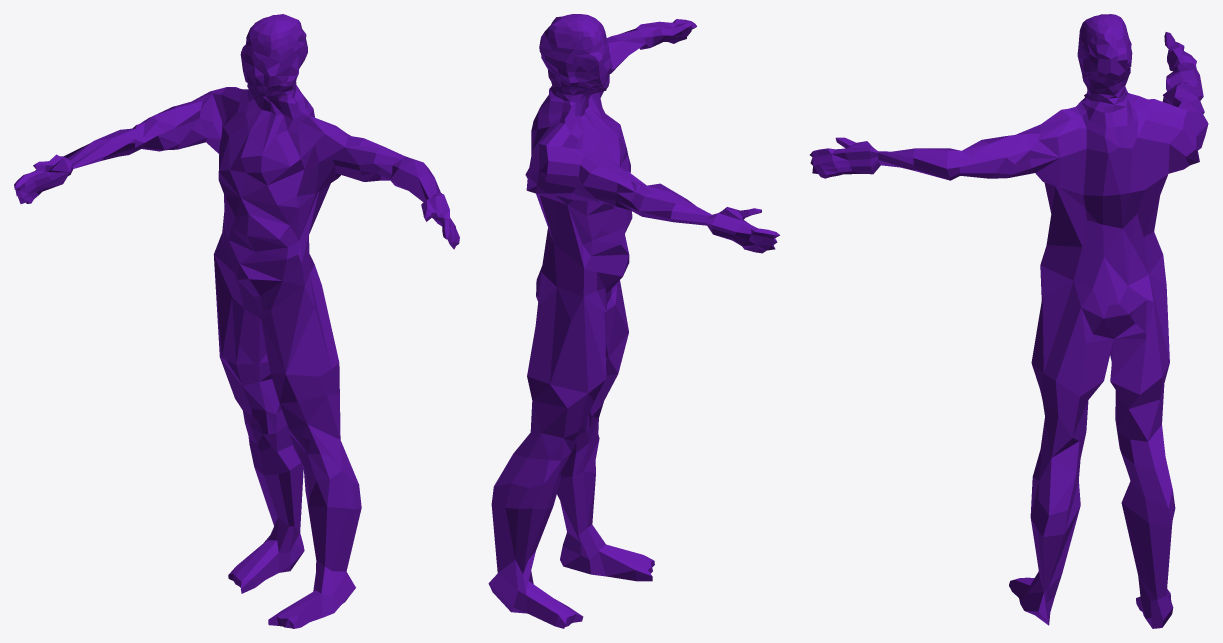
File: TheMan_chunks.fbx
The picture shows the model from 3 angles, left to right: view 1: azimuth 30°, elevation 25°; view 2: azimuth 150°, elevation 25°; view 3: azimuth 270°, elevation 25°; orthographic projection. The views are drawn at different scales.
Visible parts, largest first — view 1: TheMan_1, TheMan_7, TheMan_3, TheMan_8, TheMan_5, TheMan_0, TheMan_2, TheMan_4, TheMan_9, TheMan_6; view 2: TheMan_3, TheMan_0, TheMan_5, TheMan_2, TheMan_8, TheMan_1, TheMan_4, TheMan_7, TheMan_9, TheMan_6; view 3: TheMan_0, TheMan_7, TheMan_3, TheMan_5, TheMan_9, TheMan_8, TheMan_1, TheMan_2, TheMan_6.
Part boxes in pixels (x1,y1,x2,y2): TheMan_1: [128, 16, 433, 229]; TheMan_7: [266, 206, 340, 495]; TheMan_3: [218, 327, 304, 593]; TheMan_8: [296, 418, 361, 628]; TheMan_5: [213, 195, 276, 395]; TheMan_0: [139, 14, 338, 177]; TheMan_2: [14, 124, 249, 239]; TheMan_4: [223, 326, 301, 628]; TheMan_9: [310, 149, 459, 236]; TheMan_6: [265, 187, 459, 249]; TheMan_3: [488, 363, 606, 628]; TheMan_0: [525, 15, 635, 252]; TheMan_5: [527, 211, 632, 407]; TheMan_2: [590, 181, 779, 253]; TheMan_8: [557, 418, 648, 576]; TheMan_1: [569, 14, 692, 186]; TheMan_4: [583, 298, 654, 581]; TheMan_7: [536, 247, 628, 480]; TheMan_9: [607, 21, 663, 73]; TheMan_6: [653, 19, 696, 45]; TheMan_0: [1041, 17, 1208, 261]; TheMan_7: [1031, 206, 1133, 510]; TheMan_3: [1115, 384, 1175, 628]; TheMan_5: [1110, 199, 1169, 429]; TheMan_9: [826, 145, 1082, 218]; TheMan_8: [1010, 425, 1078, 625]; TheMan_1: [835, 14, 1170, 156]; TheMan_2: [1164, 32, 1203, 100]; TheMan_6: [810, 145, 1053, 211].
Size of the model in its own units: 1506 by 2737 by 1659.
